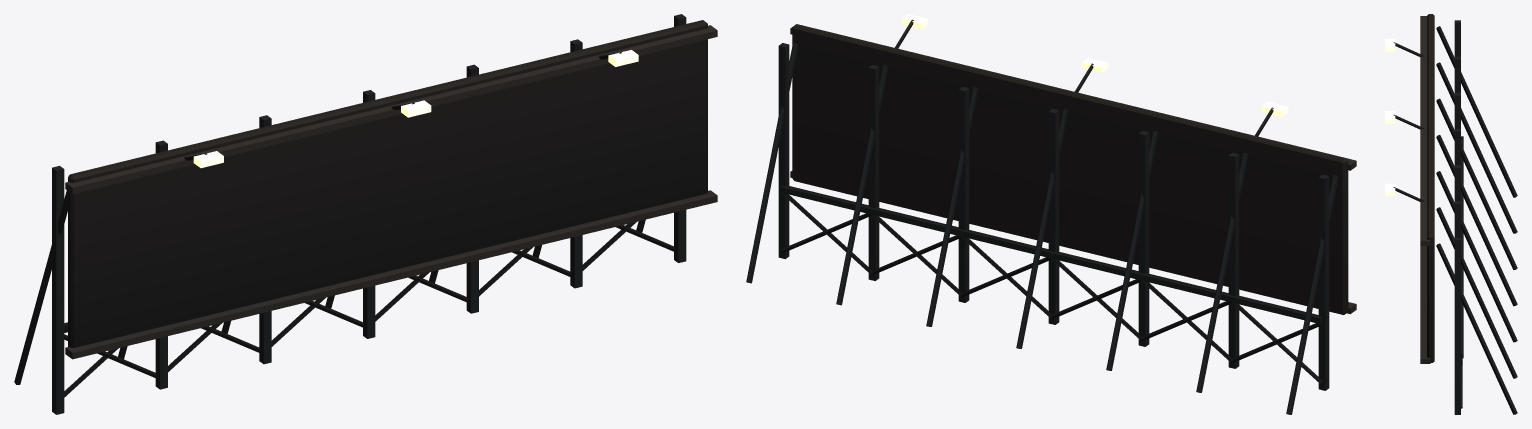
Rendered from rb_signframe-MW8Xp-sB.glb.
3 views of the same model, side by side, from view 1: azimuth 30°, elevation 25°; view 2: azimuth 150°, elevation 25°; view 3: azimuth 270°, elevation 25° (orthographic). The views are drawn at different scales.
Size of the model in its own units: 8.3 by 3.29 by 2.06.
